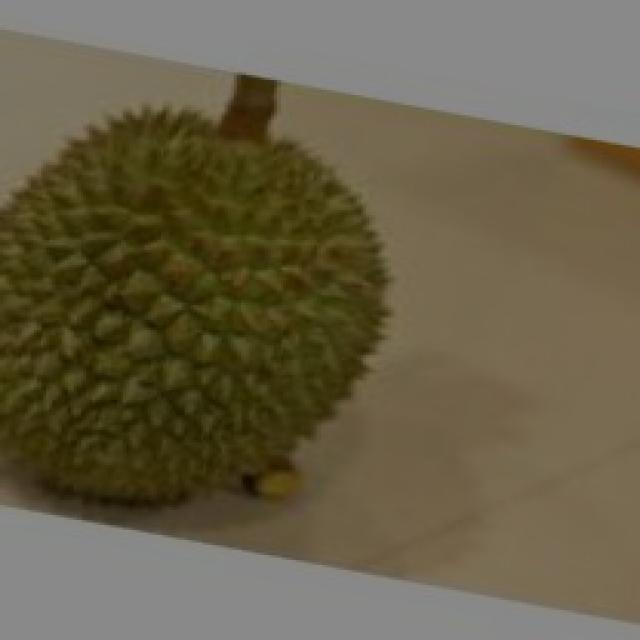fruit: (0, 77, 418, 527)
